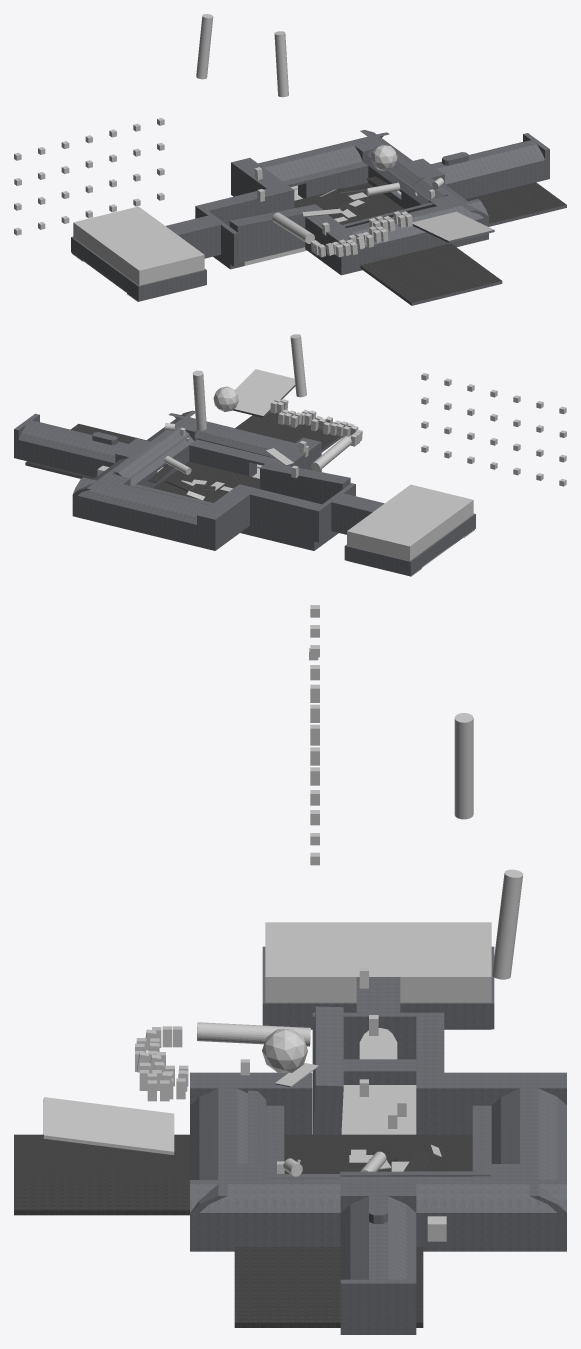
The picture shows the model from 3 angles, top to bottom: view 1: azimuth 30°, elevation 25°; view 2: azimuth 150°, elevation 25°; view 3: azimuth 270°, elevation 25°; orthographic projection. The views are drawn at different scales.
Visible parts, largest first — view 1: Cube.118, Cube.163, Cube.048, Cube.166, Cube.046, Cube.056, Cube.075, Cube.061, Cube.077, Cube.066, Cube.164, Cube.088 (+17 smaller); view 2: Cube.118, Cube.046, Cube.062, Cube.048, Cube.069, Cube.164, Cube.075, Cube.057, Cube.067, Cube.163, Cube.090, Cube.086 (+21 smaller); view 3: Cube.118, Cube.163, Cube.166, Cube.075, Cube.164, Cube.063, Cube.060, Cube.076, Cube.069, Cube.048, Cube.077, Cube.046 (+24 smaller).
Part boxes in pixels (x1,y1,x2,y2): Cube.118: [73, 206, 204, 285]; Cube.163: [360, 243, 502, 305]; Cube.048: [229, 204, 323, 263]; Cube.166: [466, 182, 566, 226]; Cube.046: [200, 184, 294, 226]; Cube.056: [445, 160, 544, 199]; Cube.075: [294, 183, 403, 224]; Cube.061: [360, 217, 488, 270]; Cube.077: [305, 215, 360, 275]; Cube.066: [298, 161, 368, 198]; Cube.164: [412, 211, 494, 242]; Cube.088: [434, 142, 541, 176]; Cube.118: [347, 484, 473, 560]; Cube.046: [232, 484, 322, 550]; Cube.062: [77, 496, 196, 546]; Cube.048: [260, 462, 350, 504]; Cube.069: [197, 490, 249, 550]; Cube.164: [233, 369, 295, 417]; Cube.075: [153, 461, 260, 502]; Cube.057: [18, 440, 114, 477]; Cube.067: [189, 439, 256, 476]; Cube.163: [235, 411, 342, 452]; Cube.090: [75, 477, 206, 517]; Cube.086: [21, 422, 125, 455]; Cube.118: [265, 922, 491, 1002]; Cube.163: [14, 1134, 189, 1215]; Cube.166: [234, 1247, 423, 1327]; Cube.075: [284, 1134, 472, 1176]; Cube.164: [43, 1097, 174, 1155]; Cube.063: [416, 1213, 566, 1251]; Cube.060: [199, 1213, 340, 1251]; Cube.076: [340, 1279, 416, 1334]; Cube.069: [444, 1072, 566, 1134]; Cube.048: [313, 1006, 343, 1134]; Cube.077: [190, 1072, 312, 1134]; Cube.046: [416, 1016, 444, 1134].
Size of the model in its own units: 114 by 44.92 by 58.68.
